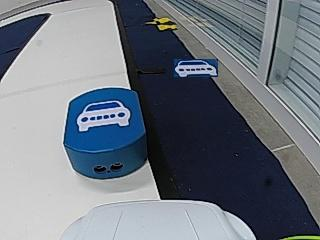safety: (76, 100, 132, 131)
